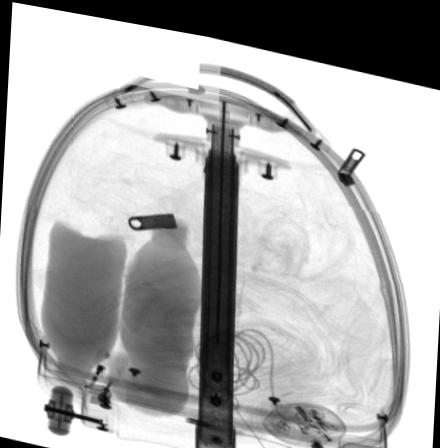Lighter: (79, 341, 132, 401)
